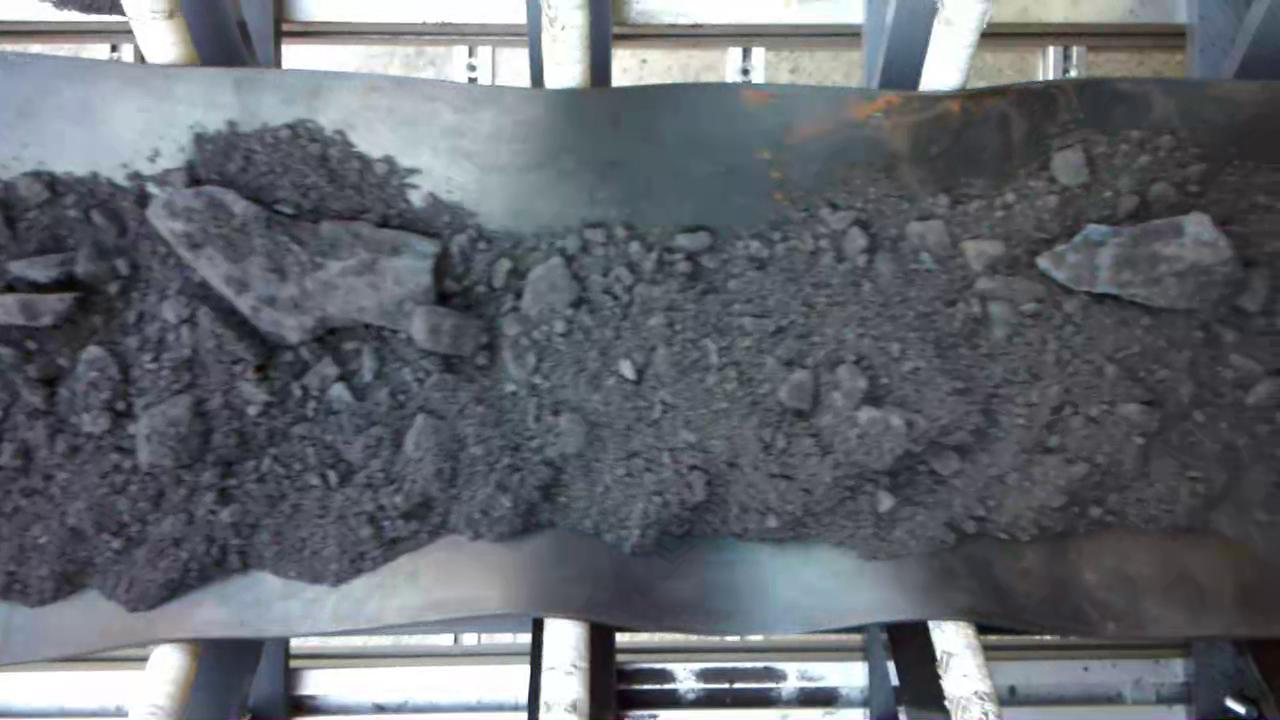conveyor: (5, 93, 1280, 623)
